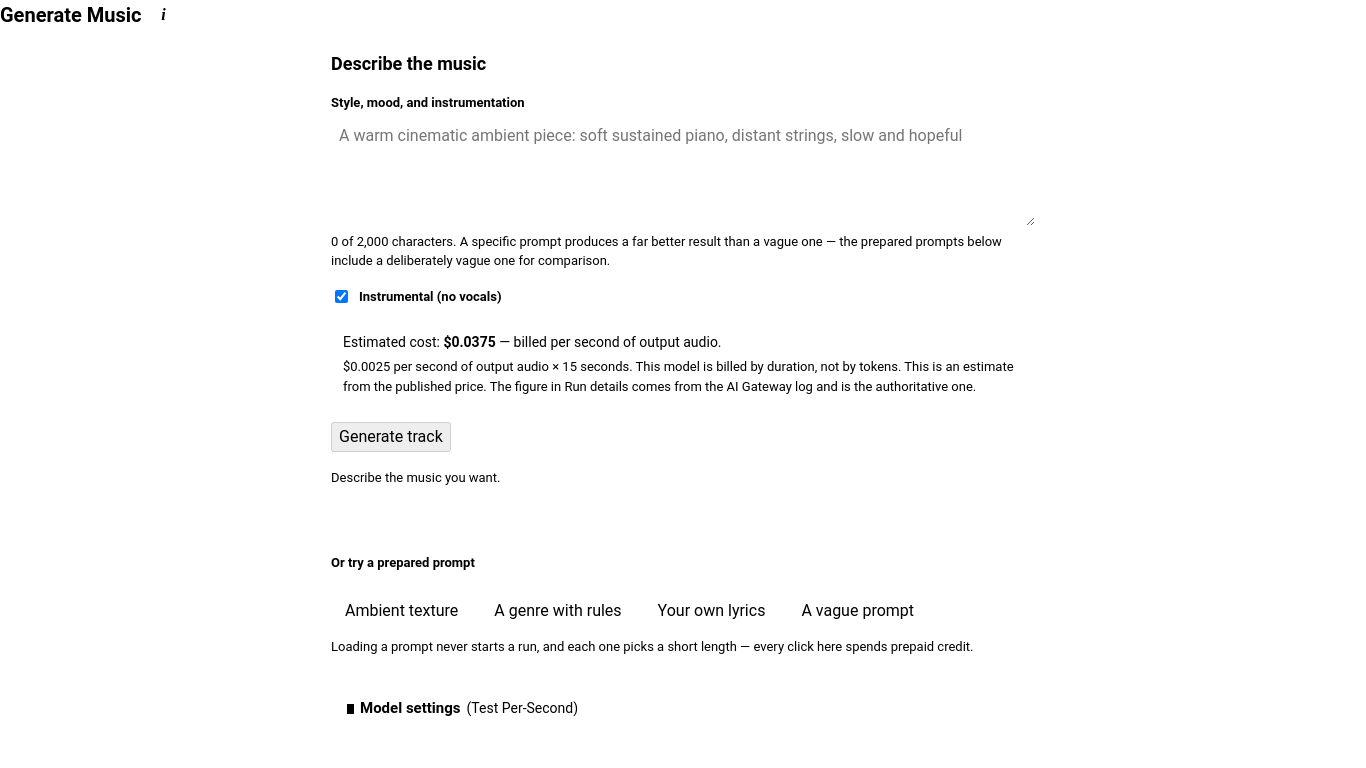
Test: warns that the prompt is logged and advises against confidential input
This screenshot has width=1366, height=768.
Click the button with class "about-button" at (164, 15), box x1=150 y1=1 x2=178 y2=29
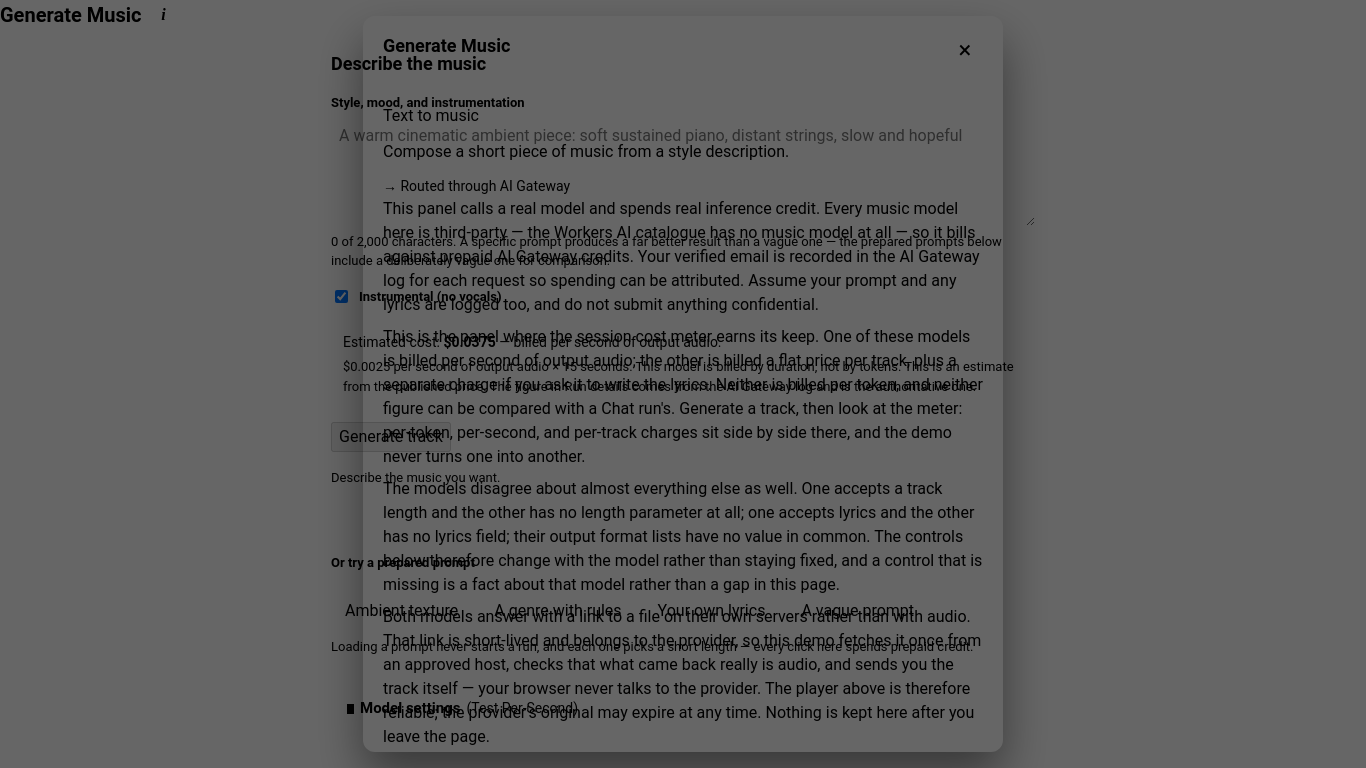
Result: the dialog shows "assume your prompt and any lyrics are logged" at x1=383 y1=199 x2=980 y2=314
